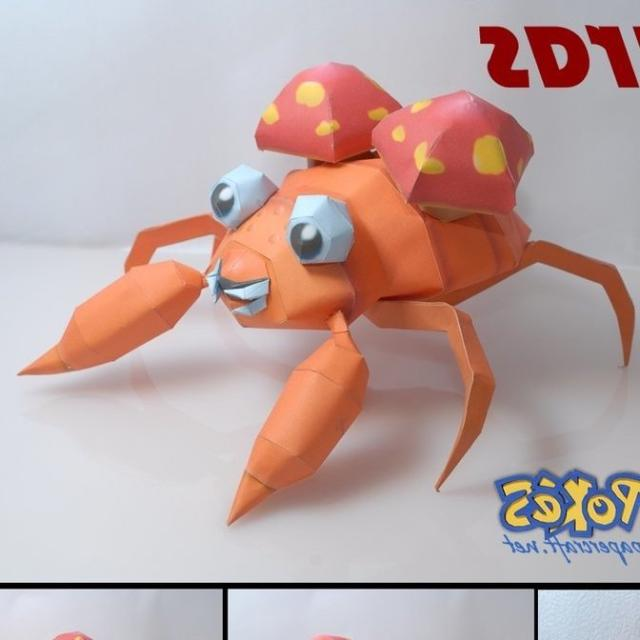Paras: (119, 58, 539, 433)
